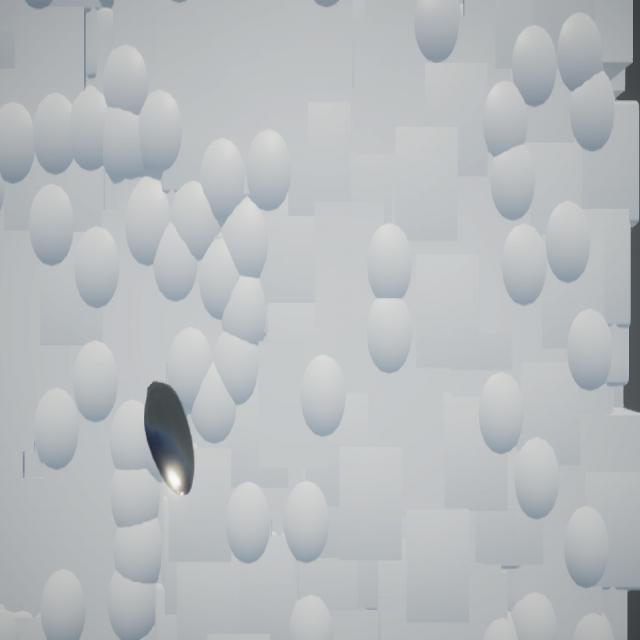top_spoon: (145, 381, 195, 496)
